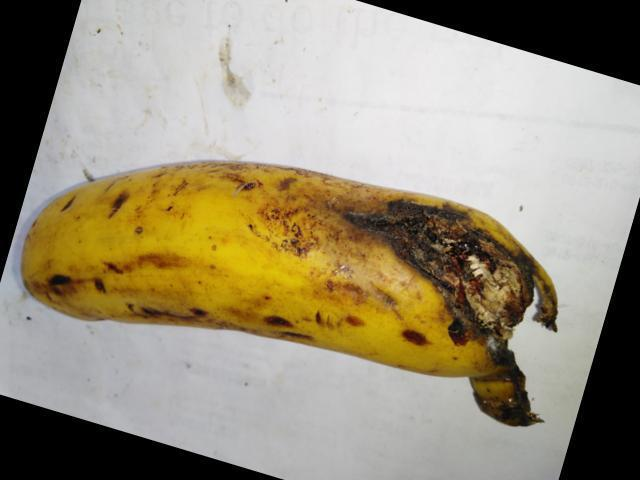rotten: (339, 159, 565, 452)
